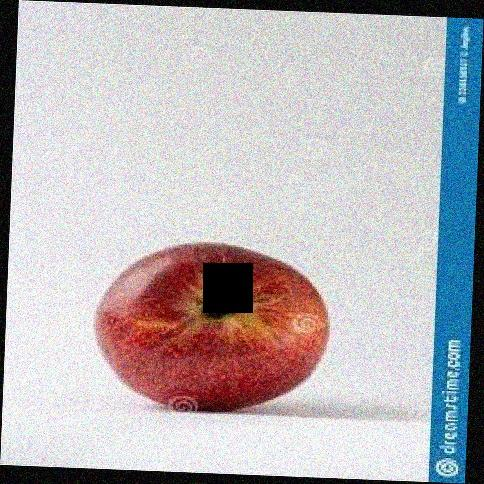red apple: (88, 238, 336, 413)
